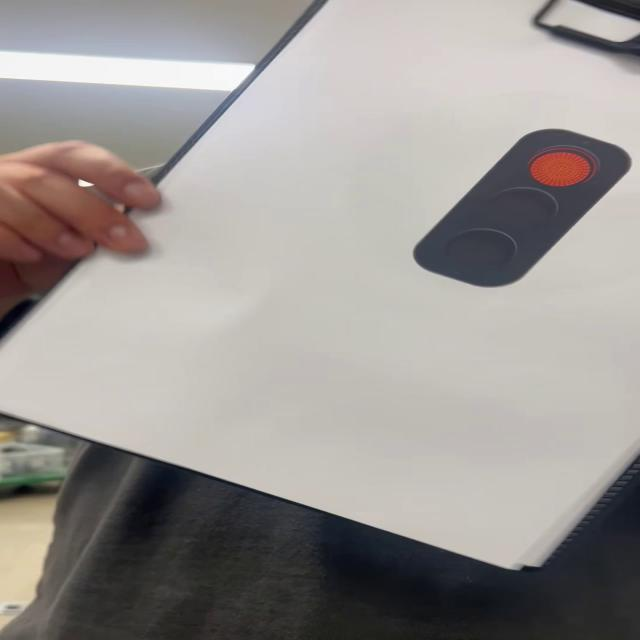red: (398, 127, 640, 293)
